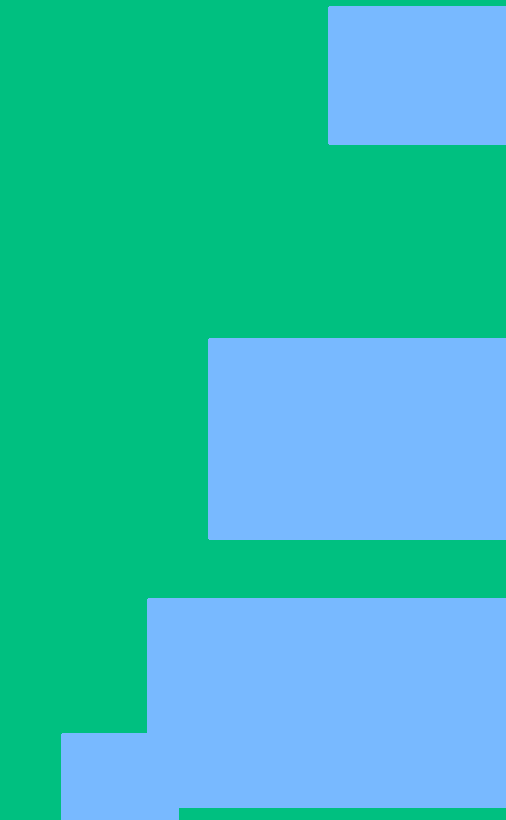Text_area: (148, 599, 506, 806), (209, 339, 506, 538), (329, 7, 506, 143), (62, 734, 177, 820)
